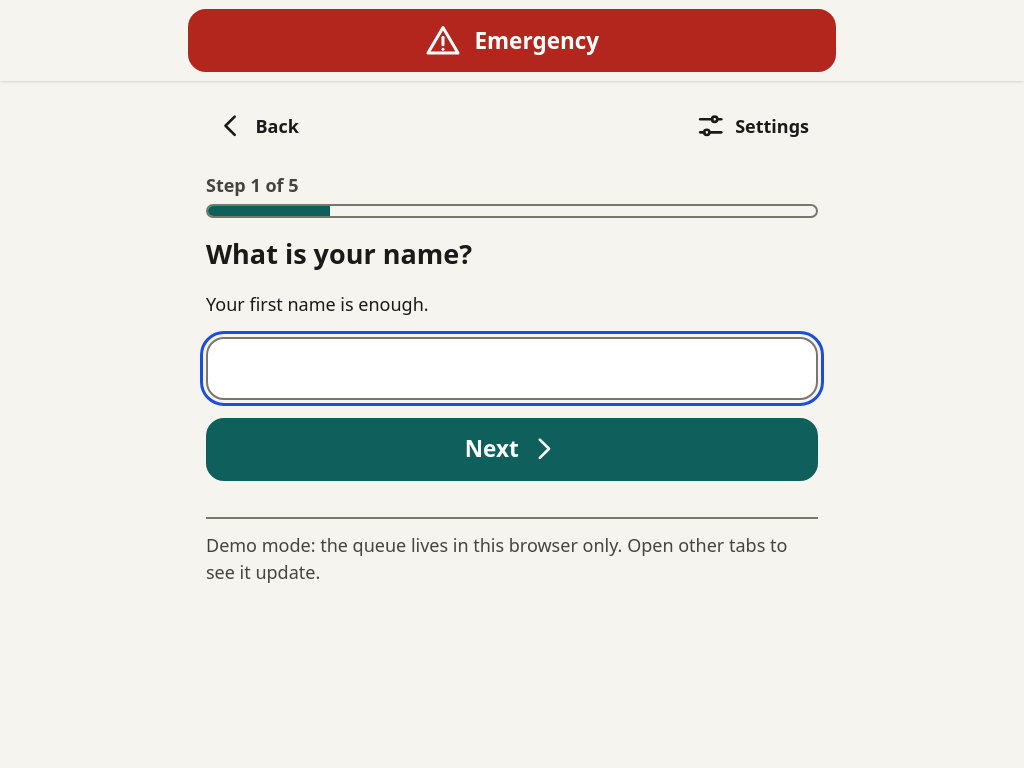
Test case: register › keeps every answer when going back
This screenshot has width=1024, height=768.
Type "Kamla" into the field at (512, 368), box [206, 337, 818, 400]
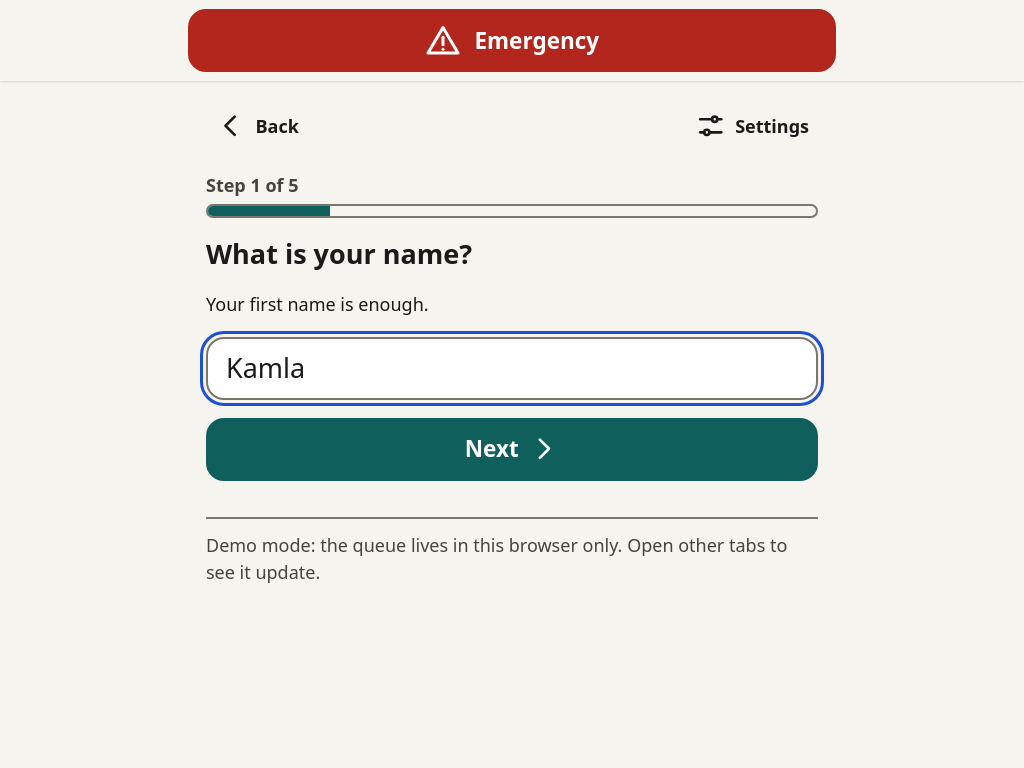
Click the button "Next" at (512, 449), box [206, 418, 818, 481]
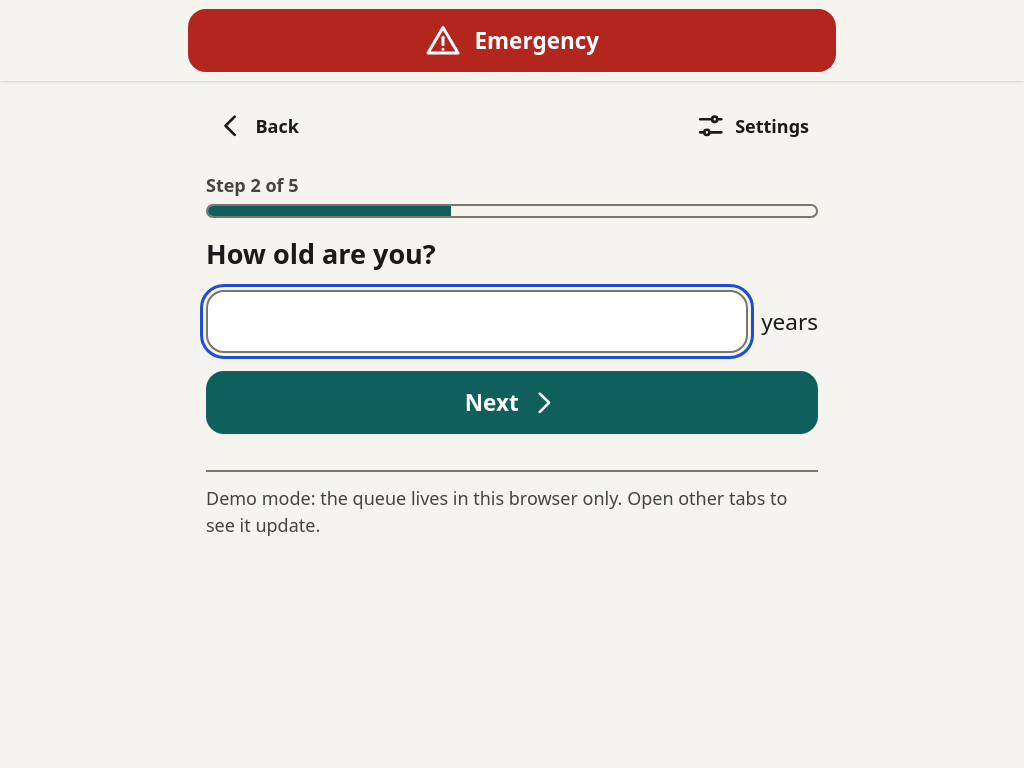
Click the button "Back" at (257, 126), box [206, 94, 308, 158]
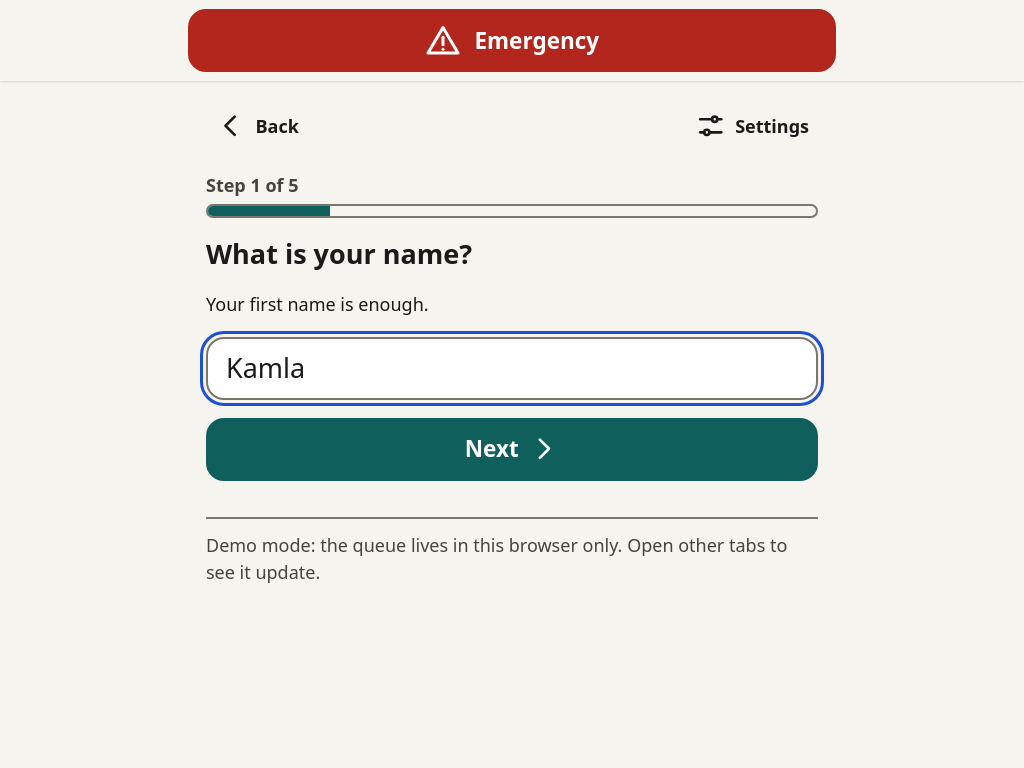
Expected: the field holds "Kamla", [206, 337, 818, 400]
